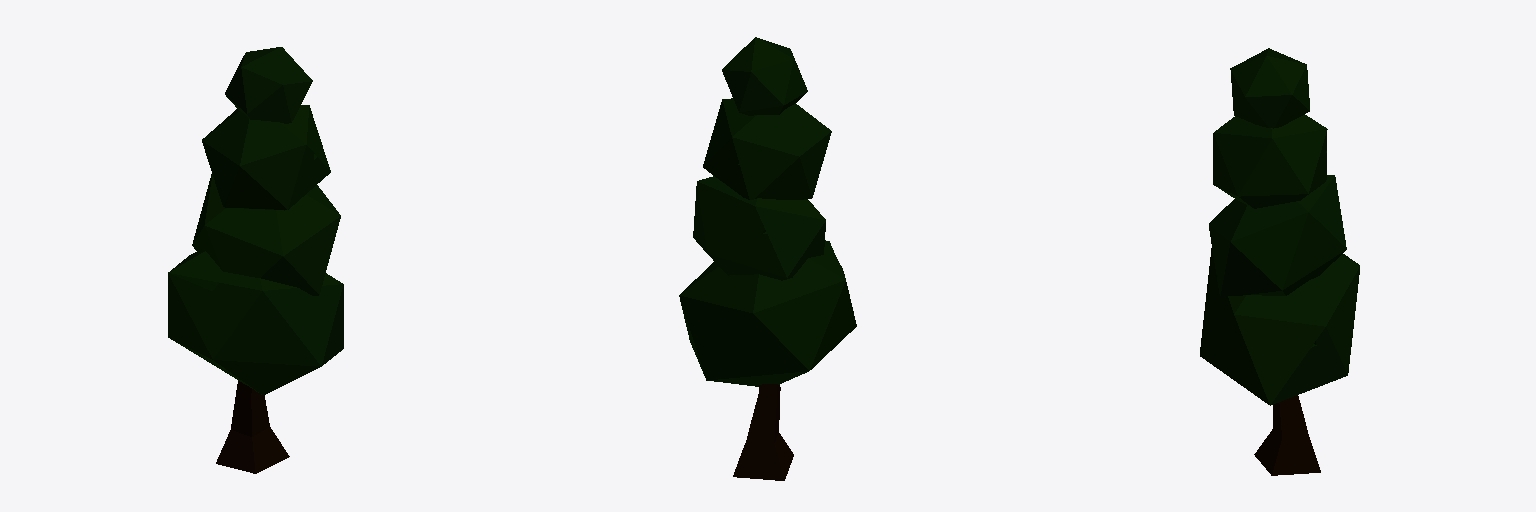
File: juniper.obj
3 renders of one model, left to right at view 1: azimuth 30°, elevation 25°; view 2: azimuth 150°, elevation 25°; view 3: azimuth 270°, elevation 25°, orthographic.
Visible parts, largest first — view 1: Icosphere.016, Icosphere.015, Icosphere.014, Icosphere.013, Cube.005; view 2: Icosphere.016, Icosphere.015, Icosphere.014, Icosphere.013, Cube.005; view 3: Icosphere.016, Icosphere.015, Icosphere.014, Icosphere.013, Cube.005.
Part boxes in pixels (bbox=[...]): Icosphere.016: bbox=[168, 251, 343, 394]; Icosphere.015: bbox=[192, 174, 340, 295]; Icosphere.014: bbox=[202, 105, 330, 210]; Icosphere.013: bbox=[225, 47, 312, 123]; Cube.005: bbox=[216, 381, 289, 473]; Icosphere.016: bbox=[679, 240, 856, 386]; Icosphere.015: bbox=[693, 176, 825, 280]; Icosphere.014: bbox=[703, 98, 831, 199]; Icosphere.013: bbox=[722, 37, 807, 115]; Cube.005: bbox=[733, 384, 793, 480]; Icosphere.016: bbox=[1200, 248, 1359, 405]; Icosphere.015: bbox=[1209, 175, 1346, 297]; Icosphere.014: bbox=[1213, 115, 1327, 208]; Icosphere.013: bbox=[1230, 48, 1309, 128]; Cube.005: bbox=[1254, 395, 1320, 475].
Size of the model in its own units: 2.63 by 6.33 by 2.2.